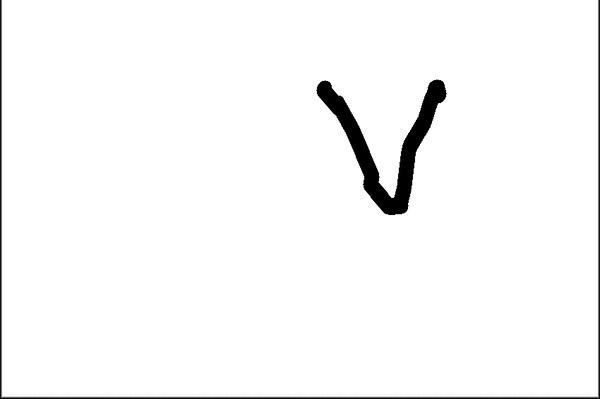V: (292, 61, 461, 224)
